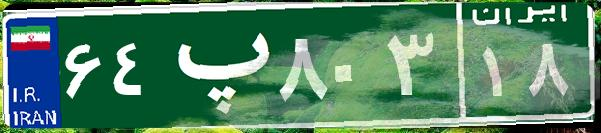0: (330, 28, 385, 110)
1: (475, 38, 525, 113)
3: (385, 28, 445, 110)
4: (110, 28, 158, 105)
6: (57, 26, 110, 107)
8: (273, 28, 330, 110), (525, 38, 570, 115)
پ: (158, 15, 273, 115)
